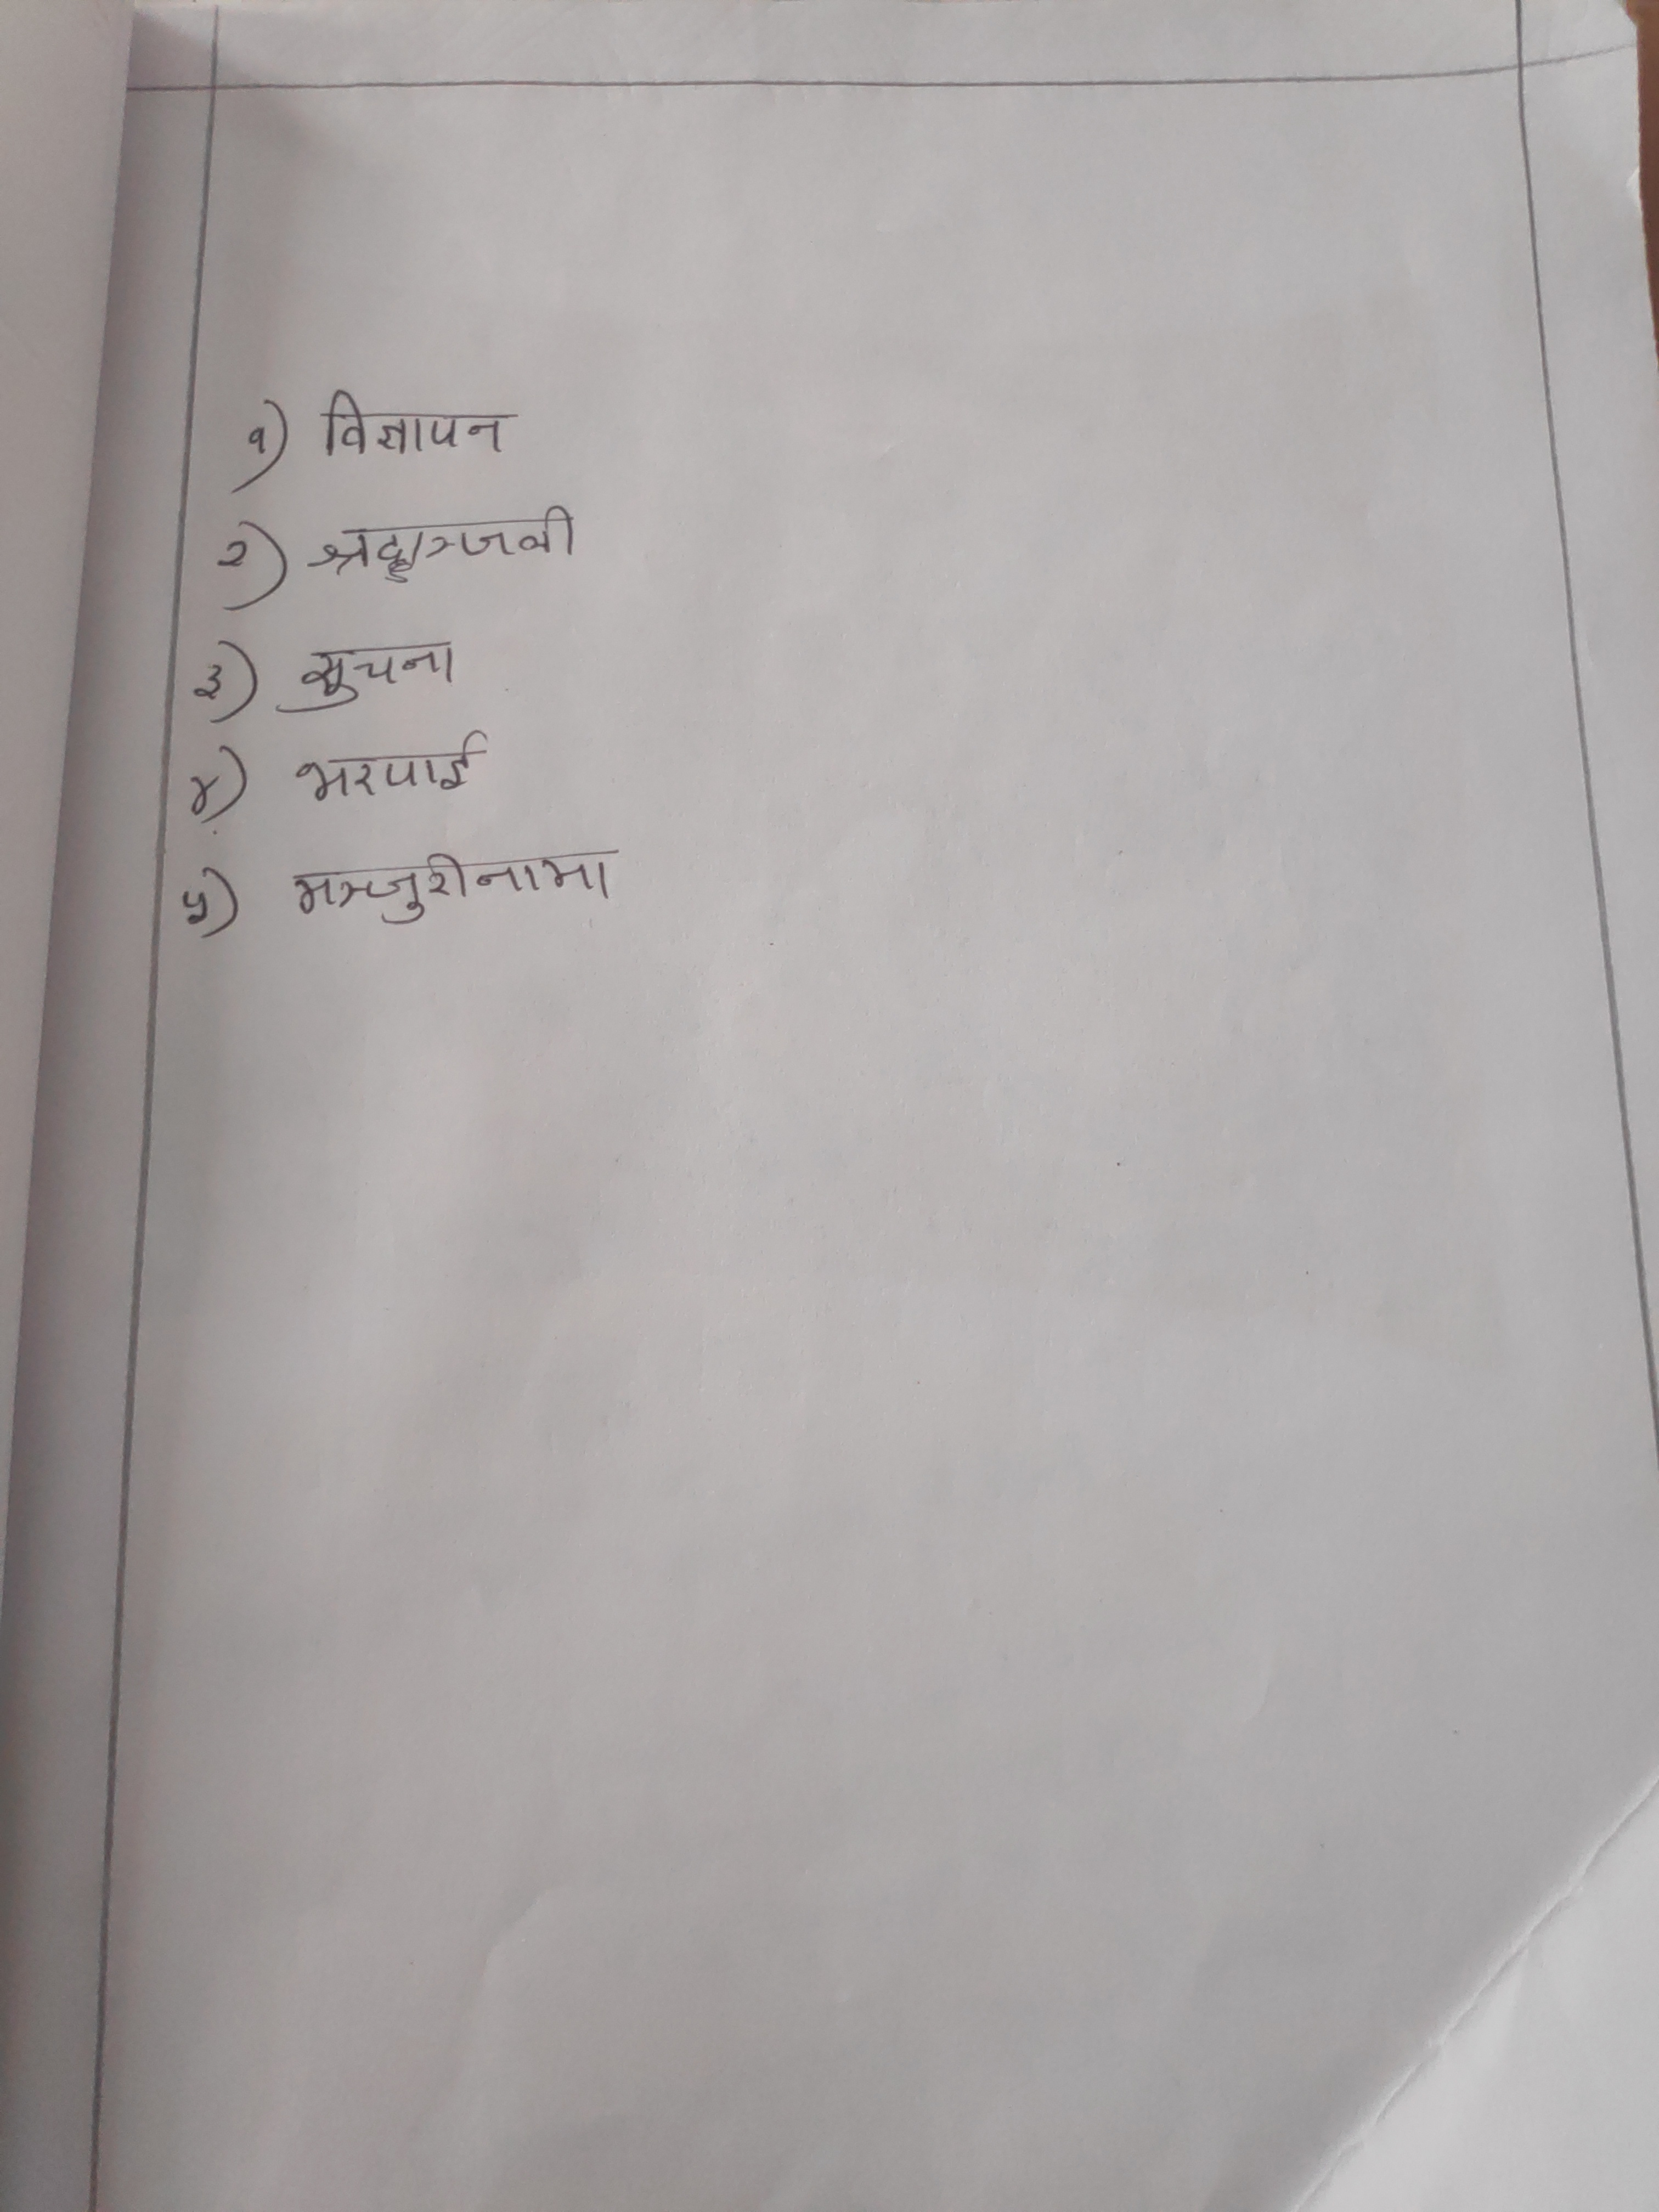text: (282, 843, 620, 921), (303, 503, 579, 587), (286, 732, 497, 810), (317, 385, 509, 462), (282, 637, 462, 711)
